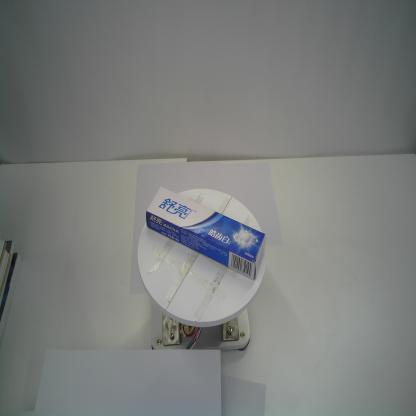Personal Hygiene: (146, 185, 265, 282)
